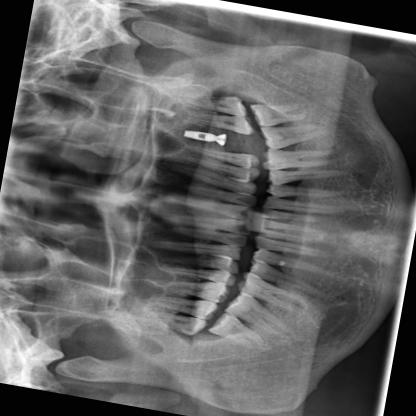Bicon: (179, 127, 216, 143)
